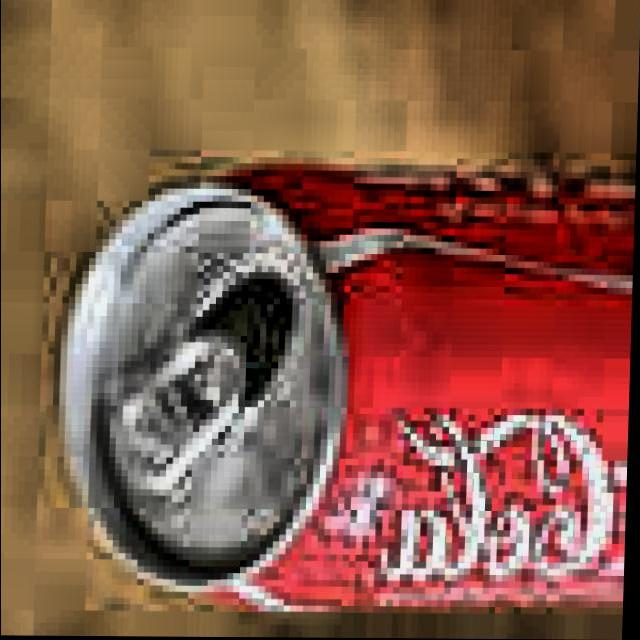litter: (42, 149, 636, 623)
